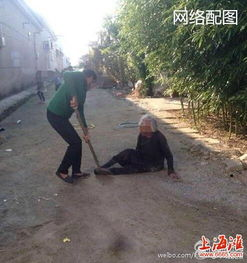fall: (88, 109, 182, 180)
